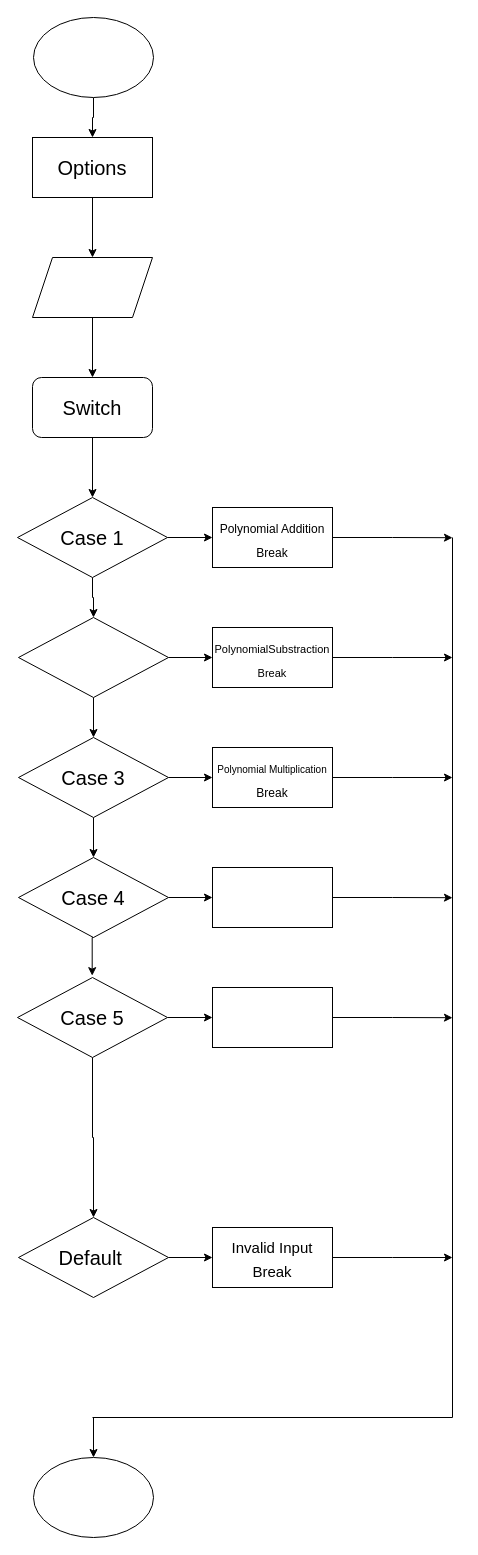
Some shapes in this 478 by 1555 pixel diagram are drawn without their labels. The centre of each missing label's shape, as x and y in pixels:
Case 2: [93,657]
End: [93,1497]
Exit Program: [272,1017]
Input: [92,287]
Polynomial Derivation Break: [272,897]
Start: [93,57]
